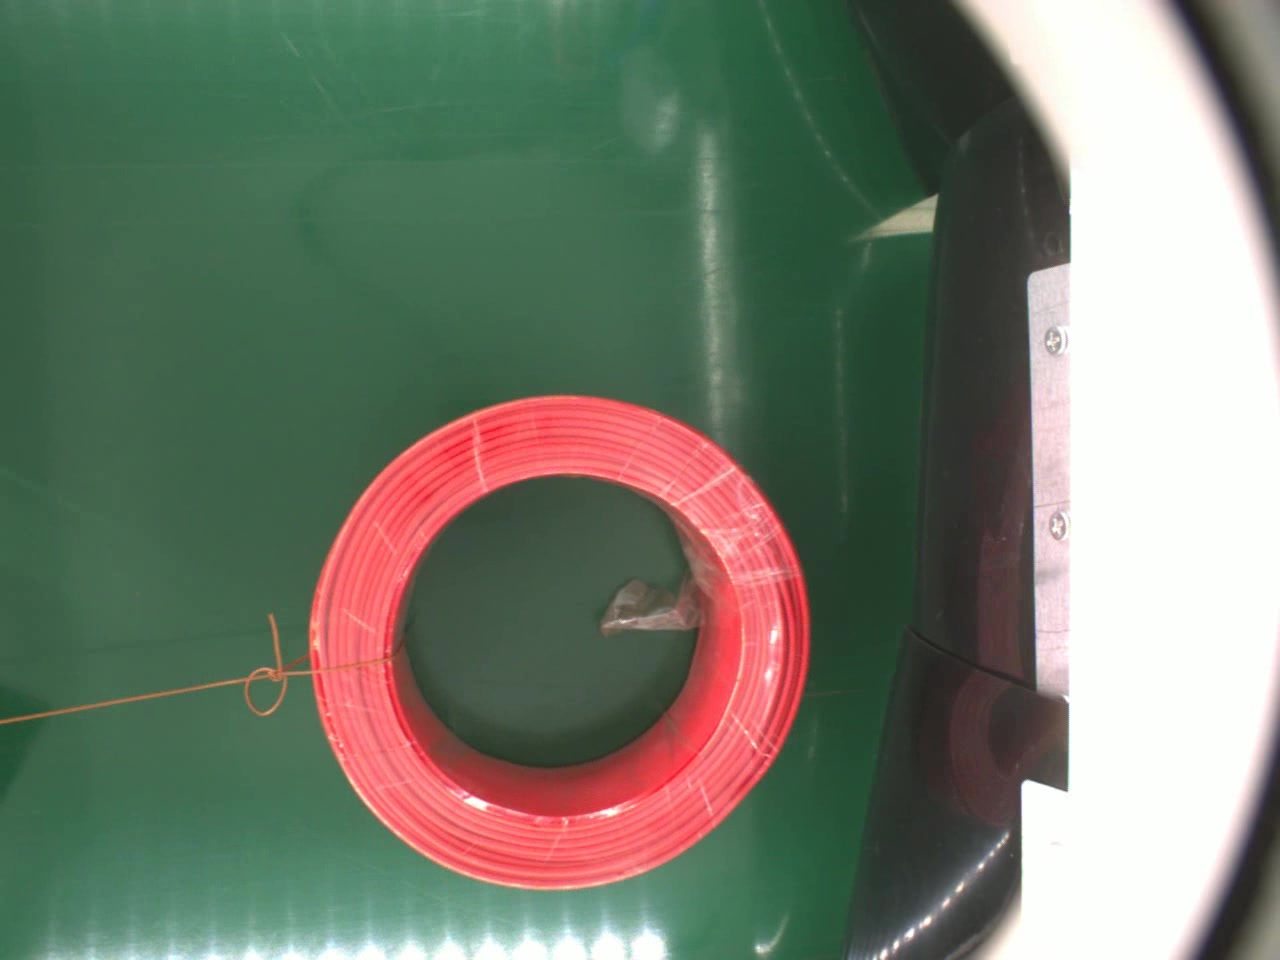red: (305, 392, 824, 903)
